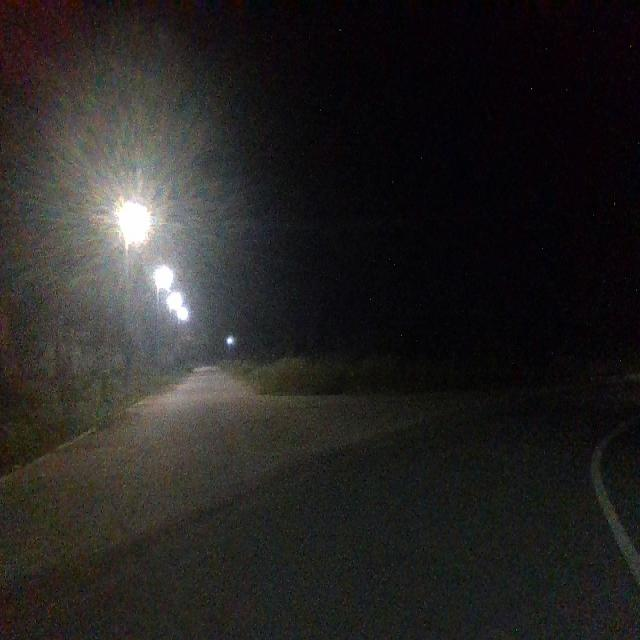lane: (28, 395, 639, 640)
